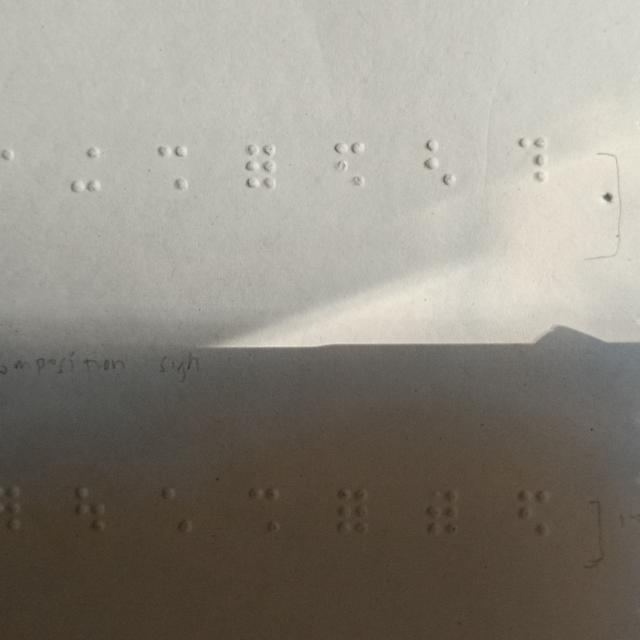one_cell_non_alphabet_kanila: (162, 486, 190, 534)
one_cell_non_alphabet_maging: (248, 486, 280, 531)
one_cell_non_alphabet_mahal: (244, 146, 276, 191)
one_cell_non_alphabet_na: (425, 487, 457, 535)
one_cell_non_alphabet_naging: (520, 488, 550, 535)
one_cell_non_alphabet_pag: (517, 138, 547, 183)
one_cell_non_alphabet_tunay: (76, 486, 106, 531)
one_cell_part_word_ing: (70, 147, 102, 192)
one_cell_part_word_mag: (156, 145, 188, 190)
one_cell_part_word_mahal: (244, 146, 276, 191), (338, 488, 368, 534)
one_cell_part_word_nag: (334, 142, 364, 187)
one_cell_part_word_ng: (426, 140, 456, 185)
one_cell_part_word_pag: (517, 138, 547, 183)
